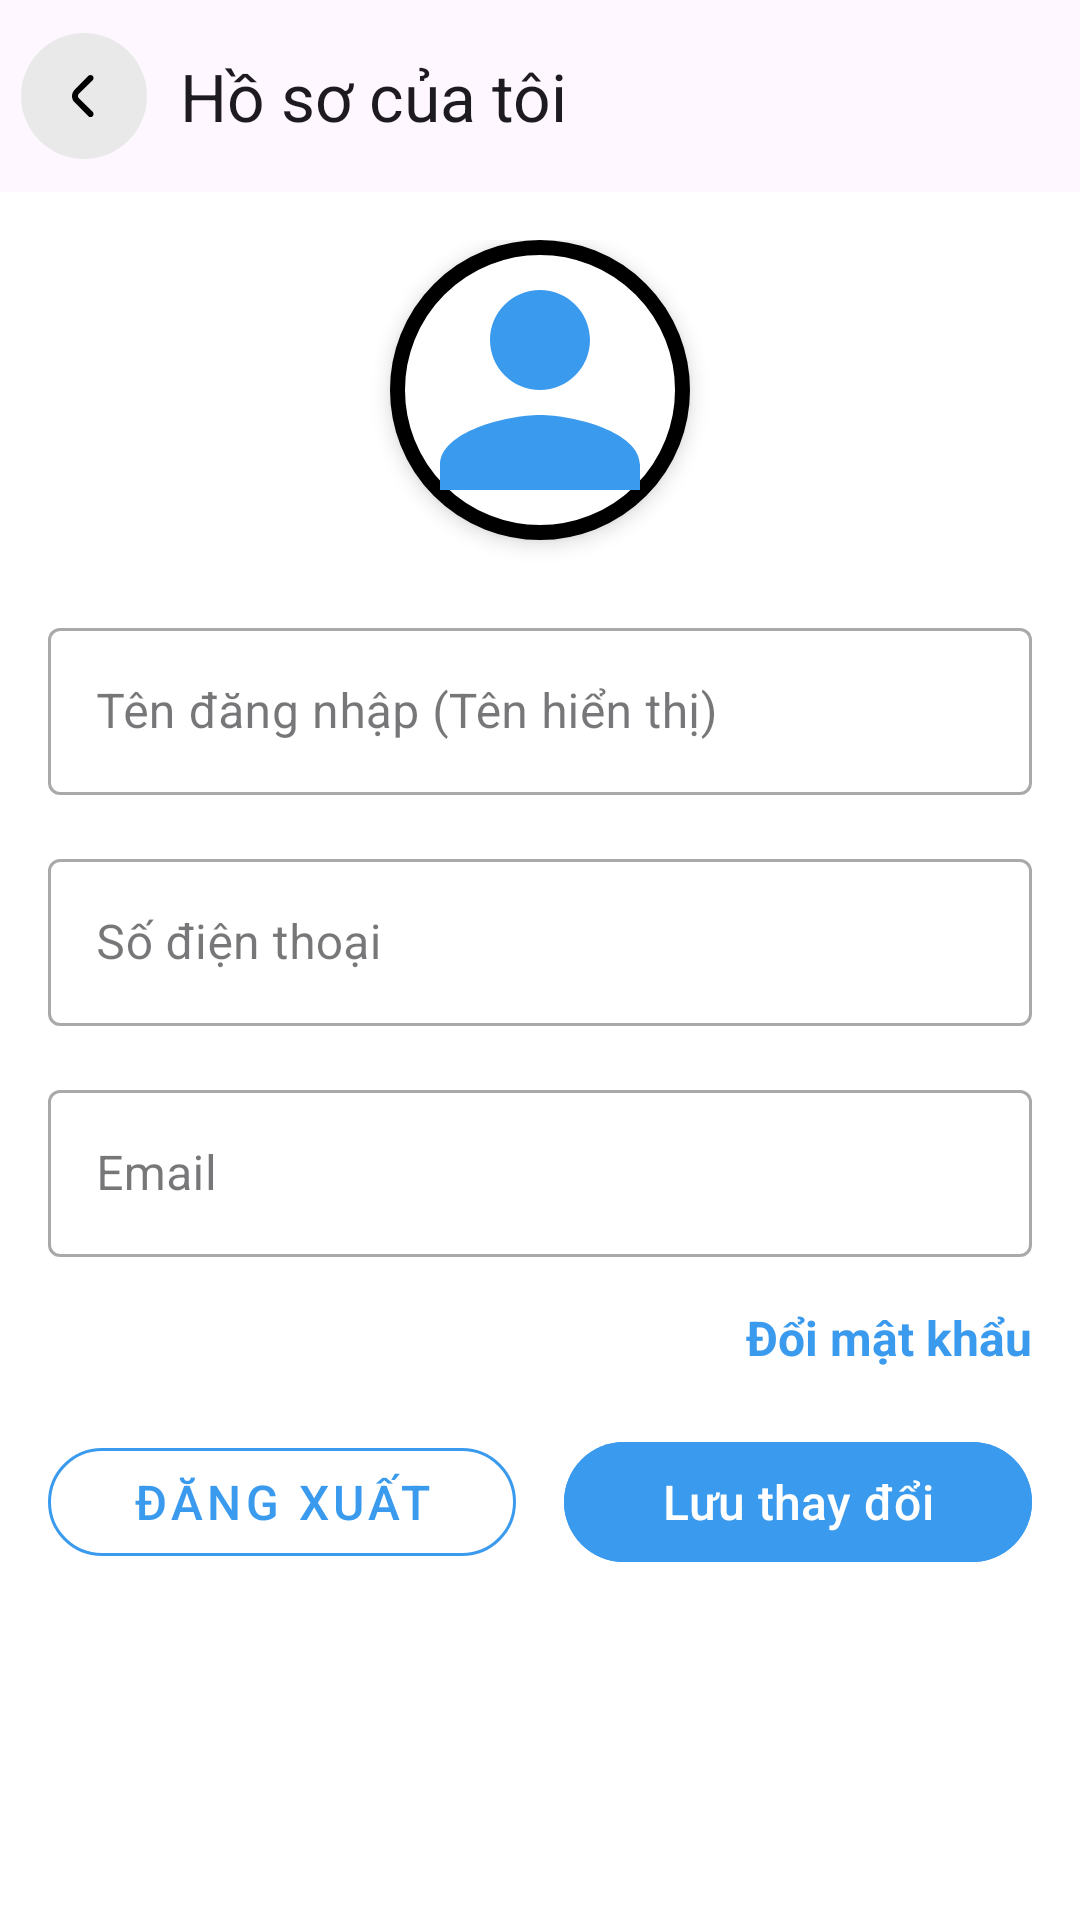

Icon bounding boxes for this 1080*1920 phone screenshot, format box(x1, y1, x2, y2):
user profile: box(390, 240, 690, 540)
